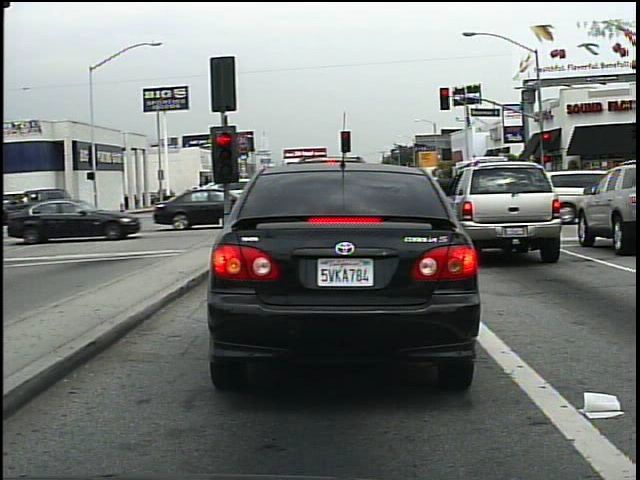person: (189, 177, 211, 216)
